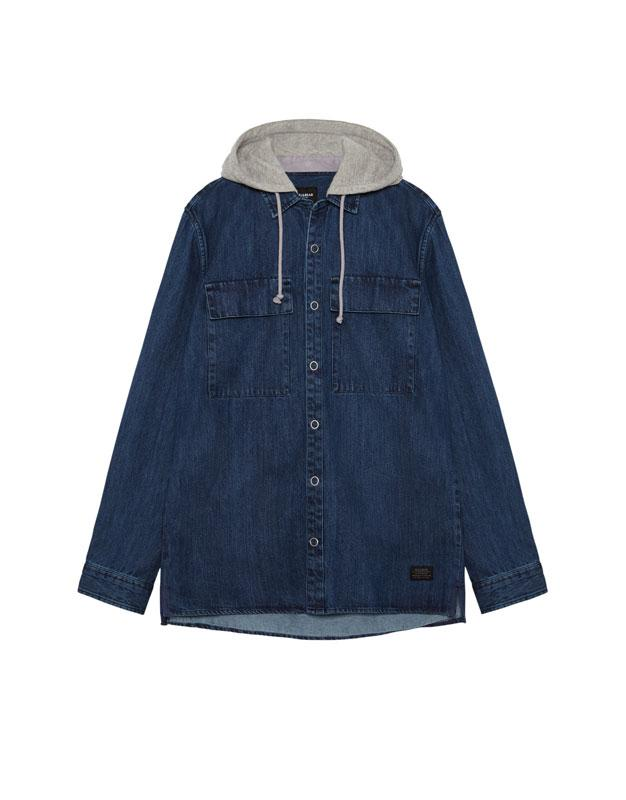teeshirt: (73, 114, 562, 662)
